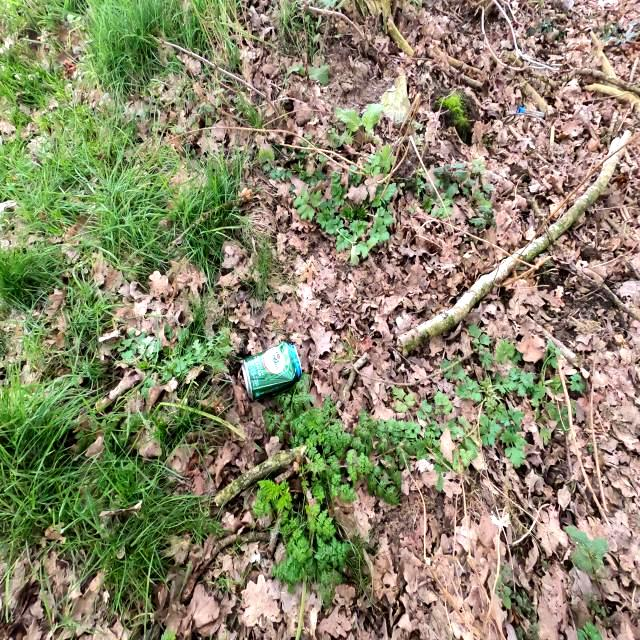Metal: (239, 340, 303, 402)
